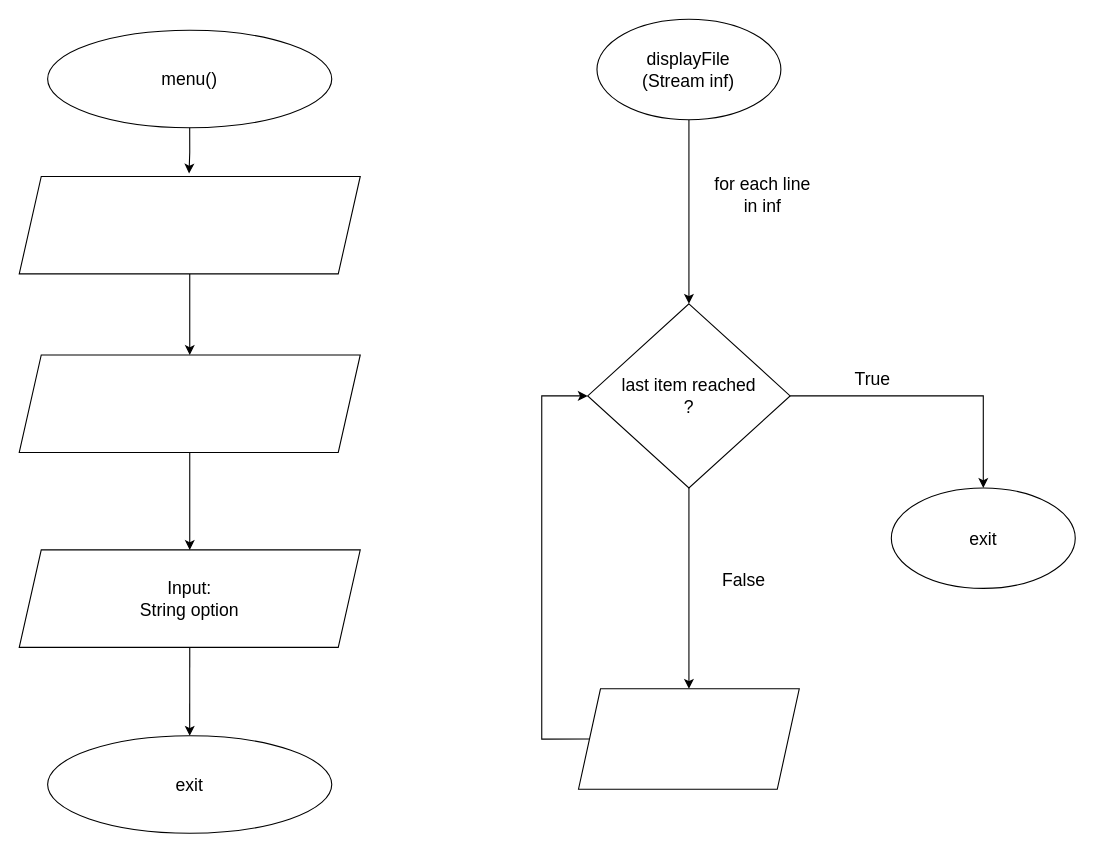
The diagram is 1095 pixels wide and 853 high, and some of its shapes have lost their labels. The shapes that lost their labels are listed below. From the top down, each one's centre as x and y in pixels, then its label:
point 189,224: output: Menu header text
point 189,403: output: option 1 prompt to option 9
point 688,738: output: line
